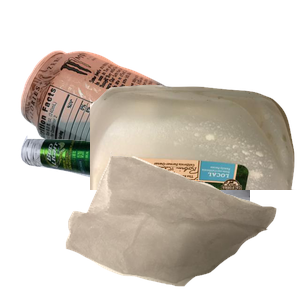glass: (18, 124, 258, 300)
metal: (18, 48, 258, 228)
plastic: (90, 82, 300, 262)
trash: (63, 149, 300, 300)
